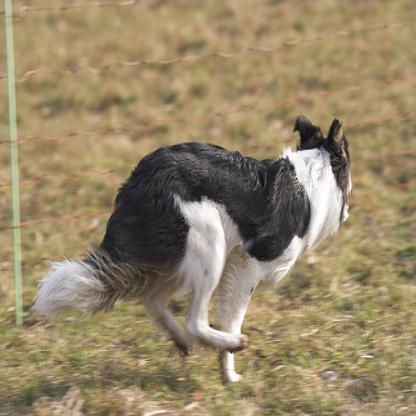dog: (30, 115, 351, 383)
